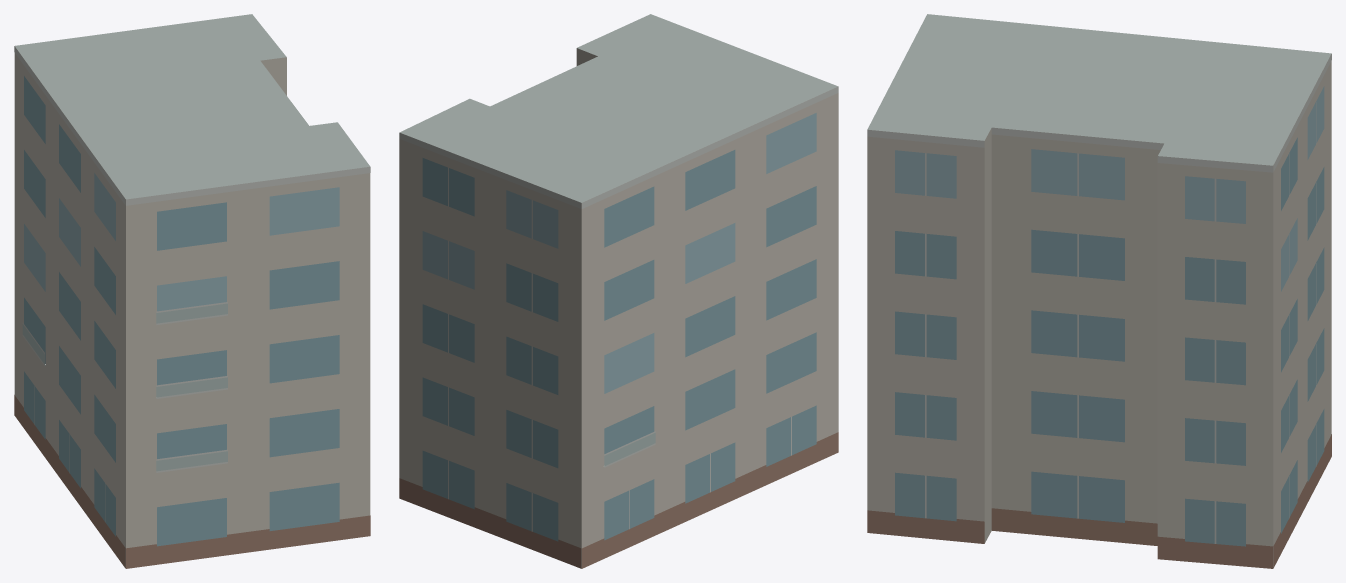
The model's file is survey-upis-32854348.glb.
3 views of the same model, side by side, from view 1: azimuth 30°, elevation 25°; view 2: azimuth 150°, elevation 25°; view 3: azimuth 270°, elevation 25° (orthographic). The views are drawn at different scales.
Visible parts, largest first — view 1: survey-upis-32854348.tmp; view 2: survey-upis-32854348.tmp; view 3: survey-upis-32854348.tmp.
Boxes of the visible parts, x1,y1,x2,y2 form: survey-upis-32854348.tmp: (14,14,370,568); survey-upis-32854348.tmp: (399,14,838,568); survey-upis-32854348.tmp: (867,14,1331,568).
Bounding box in the file's own units: 11.47 × 14.2 × 14.84.
